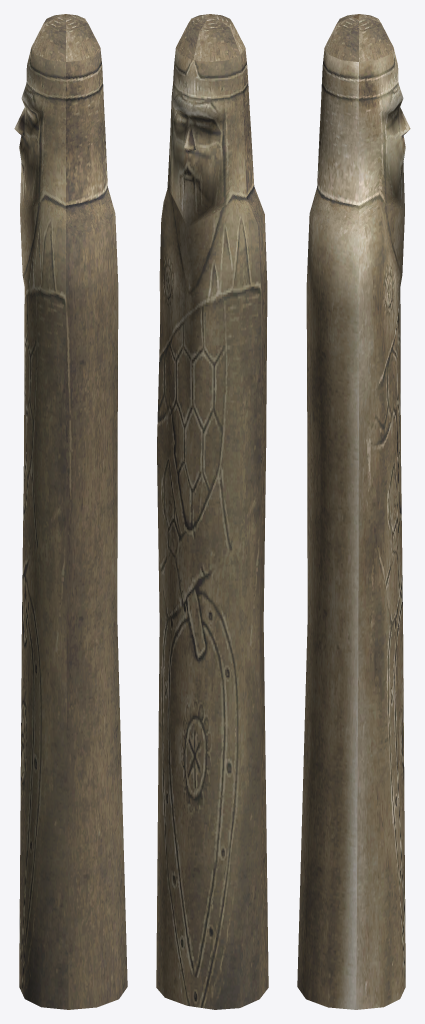
The model's file is s_germans_cult_statue.glb.
3 renders of one model, left to right at view 1: azimuth 90°, elevation 25°; view 2: azimuth 150°, elevation 25°; view 3: azimuth 270°, elevation 25°, orthographic.
Parts seen in each view (by area): view 1: s_germans_cult_statue_part0; view 2: s_germans_cult_statue_part0; view 3: s_germans_cult_statue_part0.
Boxes of the visible parts, bbox=[...] form: s_germans_cult_statue_part0: bbox=[14, 14, 127, 1009]; s_germans_cult_statue_part0: bbox=[156, 14, 268, 1009]; s_germans_cult_statue_part0: bbox=[297, 14, 410, 1009].
Bounding box in the file's own units: 0.378 × 3.45 × 0.3647.
Materials: 1 (1 with a texture image).
